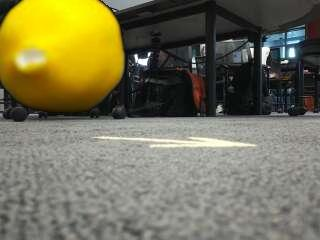lemon: (0, 0, 124, 110)
